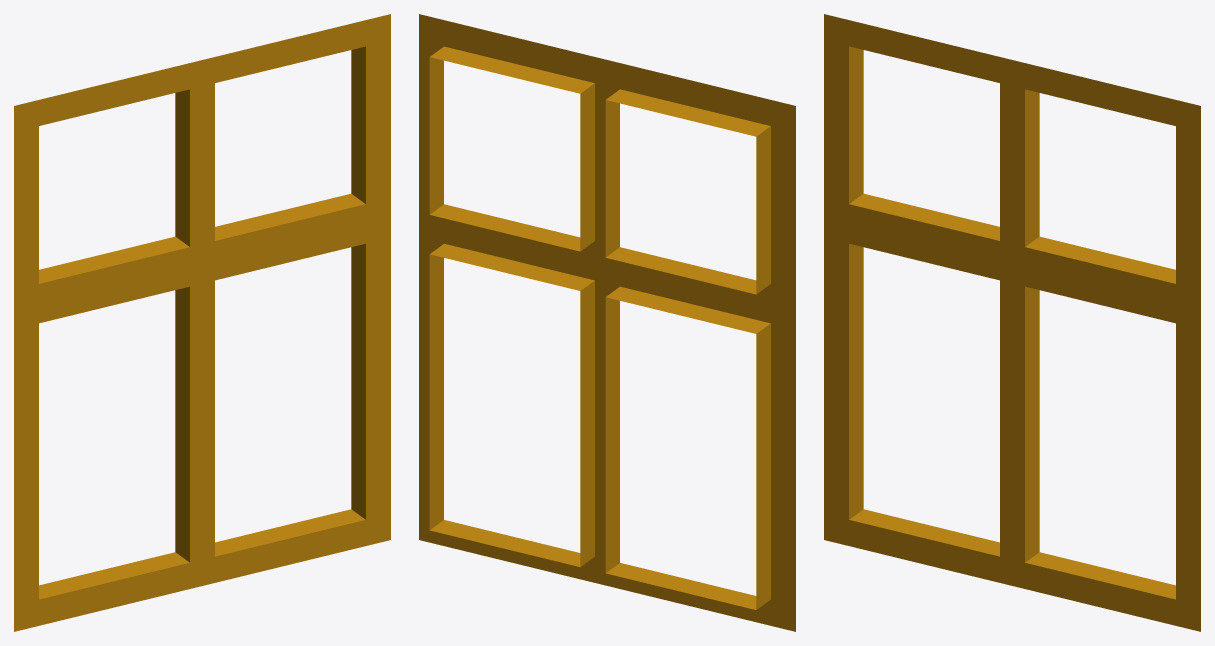
The model's file is ventana_P2.fbx.
3 renders of one model, left to right at view 1: azimuth 30°, elevation 25°; view 2: azimuth 150°, elevation 25°; view 3: azimuth 330°, elevation 25°, orthographic.
Visible parts, largest first — view 1: ventana_P2; view 2: ventana_P2; view 3: ventana_P2.
Boxes of the visible parts, box(x1,y1,x2,y2) form: ventana_P2: box(14, 14, 390, 631); ventana_P2: box(419, 14, 795, 631); ventana_P2: box(824, 14, 1200, 631).
Bounding box in the file's own units: 150 × 200 × 10.
